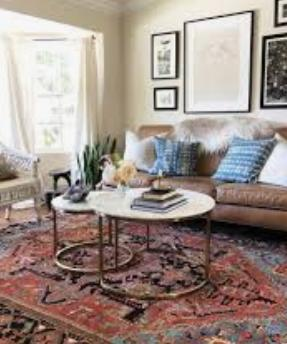carpet: (1, 209, 286, 344)
